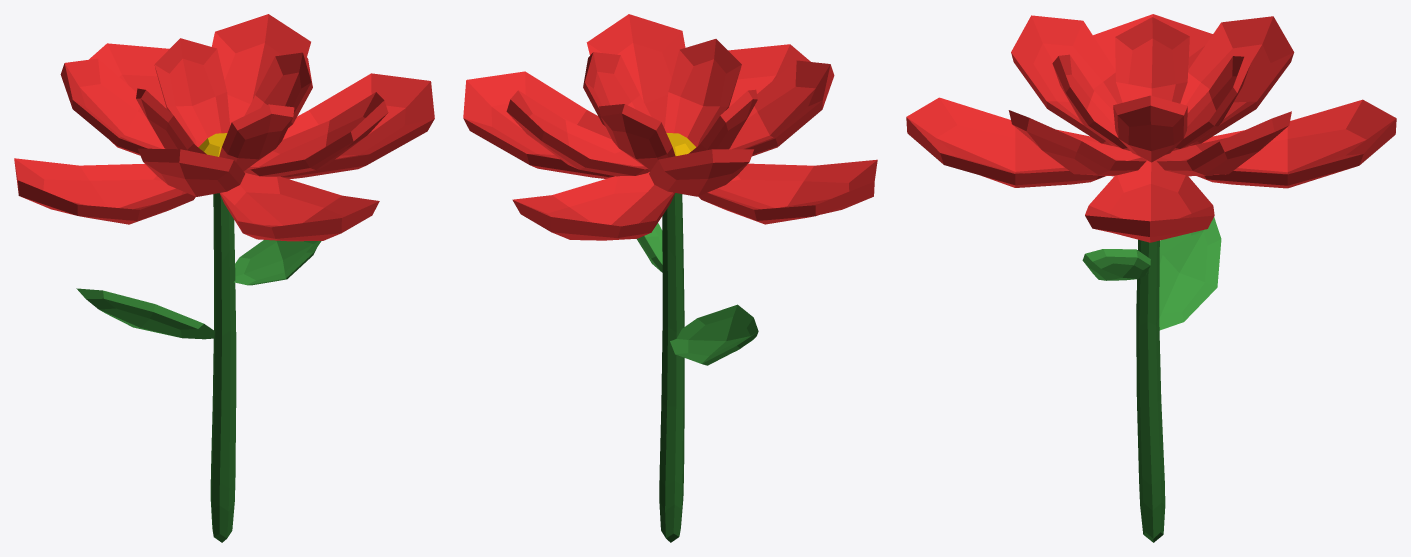
The model's file is FRED_STEM.fbx.
3 views of the same model, side by side, from view 1: azimuth 30°, elevation 25°; view 2: azimuth 150°, elevation 25°; view 3: azimuth 270°, elevation 25° (orthographic). The views are drawn at different scales.
Parts seen in each view (by area): view 1: pCube21 (×6), pCube22 (×6), pCube23, pCube24, pCube25; view 2: pCube22 (×6), pCube21 (×6), pCube23, pCube24, pCube25; view 3: pCube22 (×6), pCube21 (×6), pCube23, pCube24, pCube25.
Boxes of the visible parts, left/top/right/bottom form: pCube21 (×6): left=14, top=52, right=434, bottom=224; pCube22 (×6): left=89, top=14, right=379, bottom=241; pCube23: left=210, top=193, right=236, bottom=542; pCube24: left=76, top=288, right=214, bottom=339; pCube25: left=234, top=240, right=321, bottom=285; pCube22 (×6): left=506, top=39, right=834, bottom=240; pCube21 (×6): left=463, top=14, right=877, bottom=224; pCube23: left=659, top=193, right=684, bottom=542; pCube24: left=670, top=304, right=758, bottom=365; pCube25: left=637, top=223, right=662, bottom=272; pCube22 (×6): left=906, top=15, right=1396, bottom=188; pCube21 (×6): left=1008, top=14, right=1294, bottom=242; pCube23: left=1136, top=239, right=1165, bottom=542; pCube24: left=1159, top=217, right=1221, bottom=330; pCube25: left=1082, top=249, right=1150, bottom=280.
Bounding box in the file's own units: 0.4124 × 0.4522 × 0.4124.
